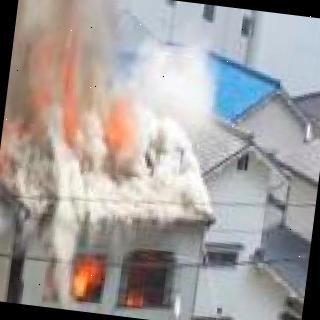fire: (34, 56, 151, 150), (72, 258, 159, 310)
